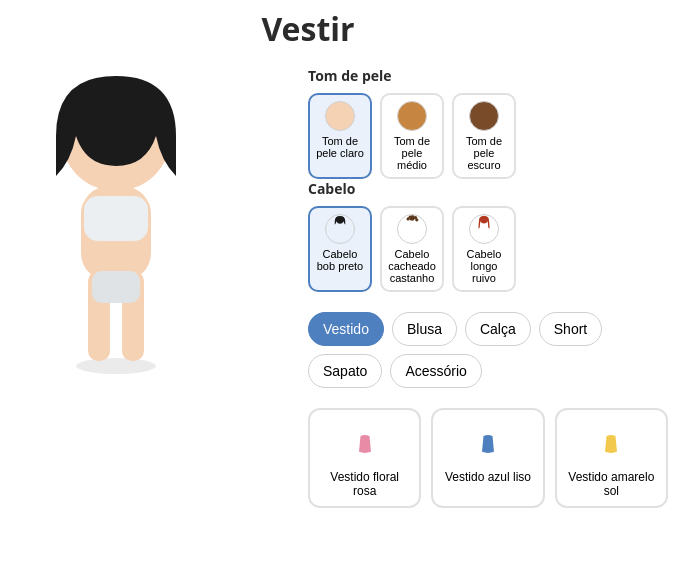
Test: Fluxo de vestir o avatar (User Story 1) › remover a peça equipada volta o slot para a camada de pele/roupa íntima básica (FR-006)
This screenshot has width=685, height=568.
Click the tab "Blusa" at (424, 329), box [392,312,457,346]
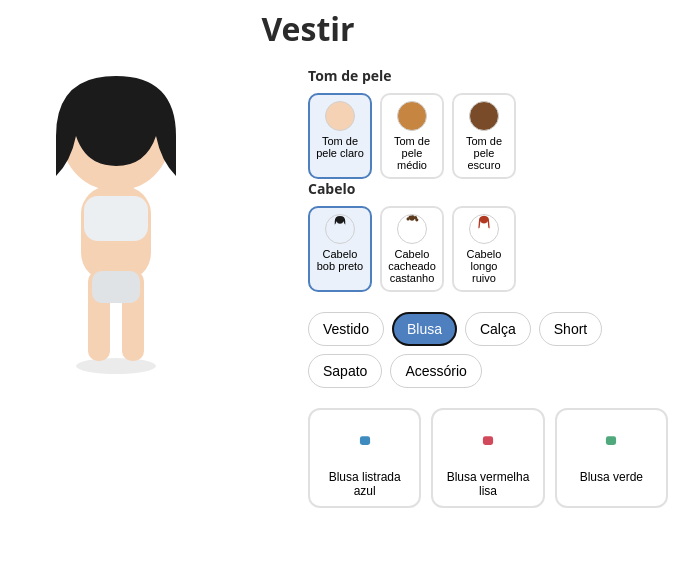
Click the button "Blusa listrada azul" at (365, 458), box [308,408,421,508]
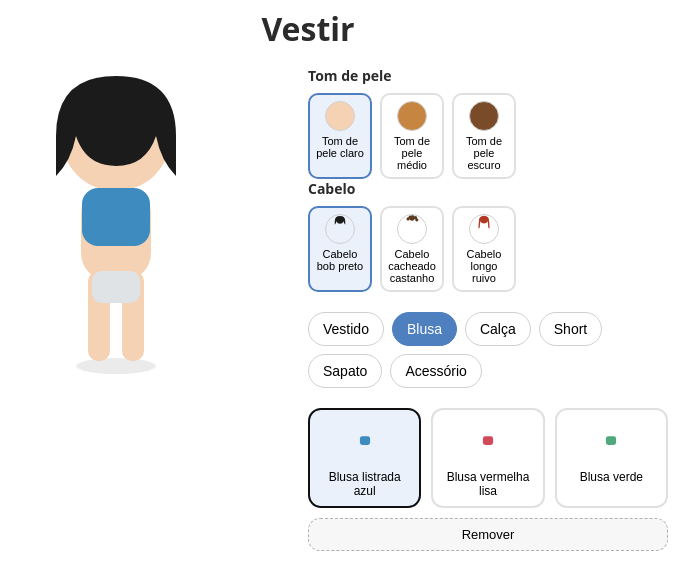
Now the picture with test id "avatar-layer-top" is shown, box [16,66,216,386]
Click the button with aria-label "Remover peça de Blusa" at (488, 535), box [308,518,668,551]
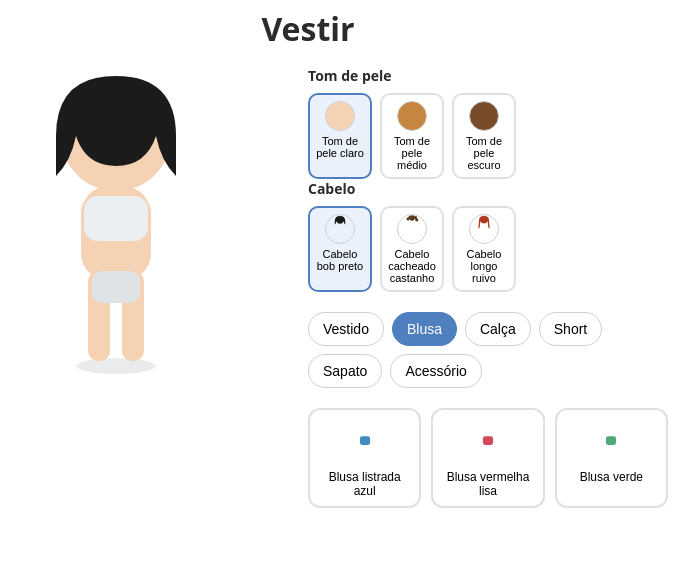
Now the picture with test id "avatar-layer-top" is gone
